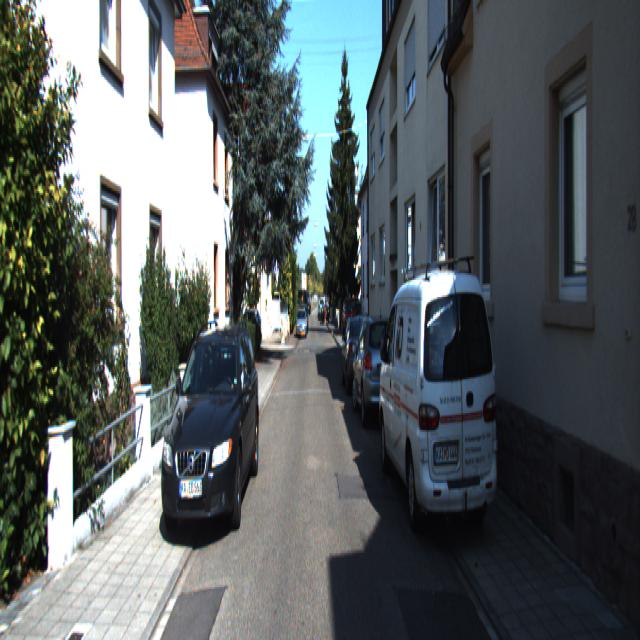Car: (378, 251, 502, 555), (159, 317, 260, 553), (351, 312, 399, 437), (341, 312, 376, 403), (342, 294, 358, 334)
